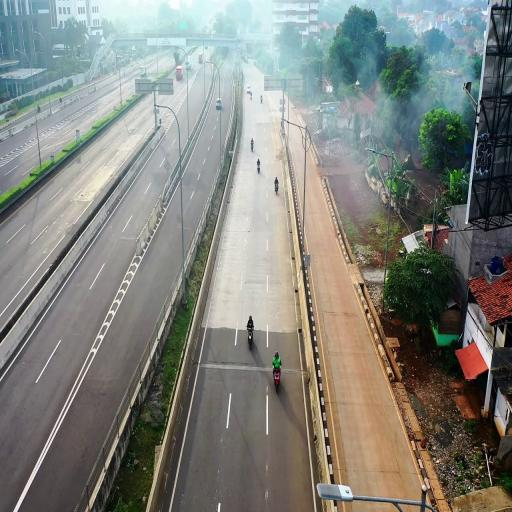vehicle: (274, 369, 280, 391), (175, 66, 184, 80), (248, 328, 253, 347), (140, 67, 146, 78), (216, 99, 221, 110), (186, 59, 191, 69), (199, 53, 203, 63), (275, 184, 278, 194), (247, 86, 251, 93), (251, 141, 253, 152), (258, 165, 260, 173), (250, 93, 252, 100), (261, 96, 262, 104)
